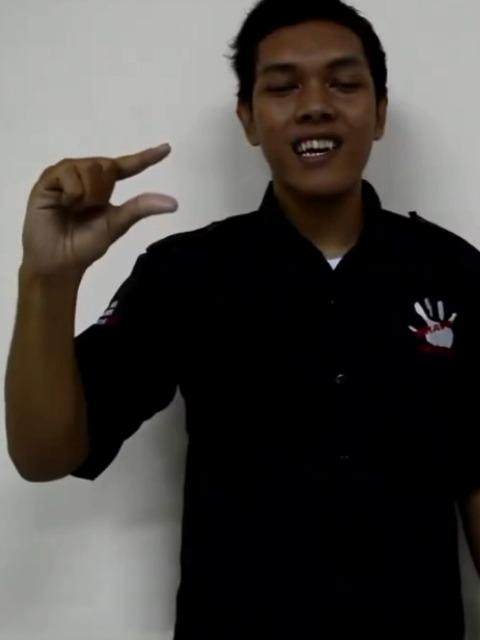G: (16, 140, 182, 266)
